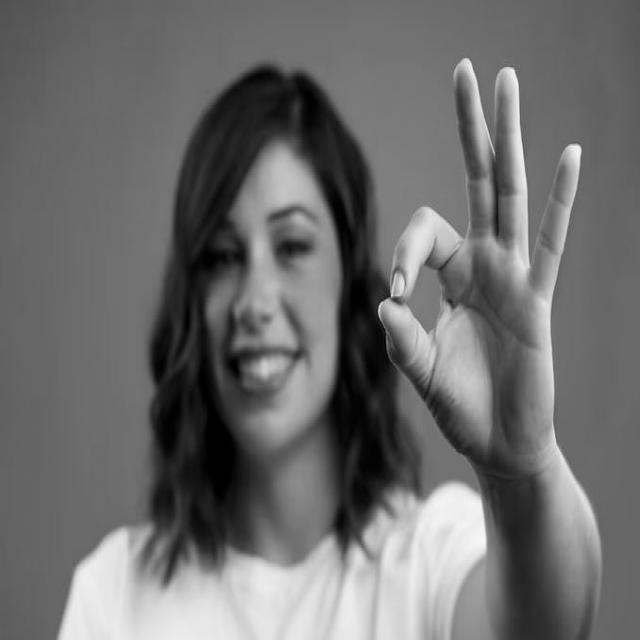perfect: (372, 44, 586, 488)
